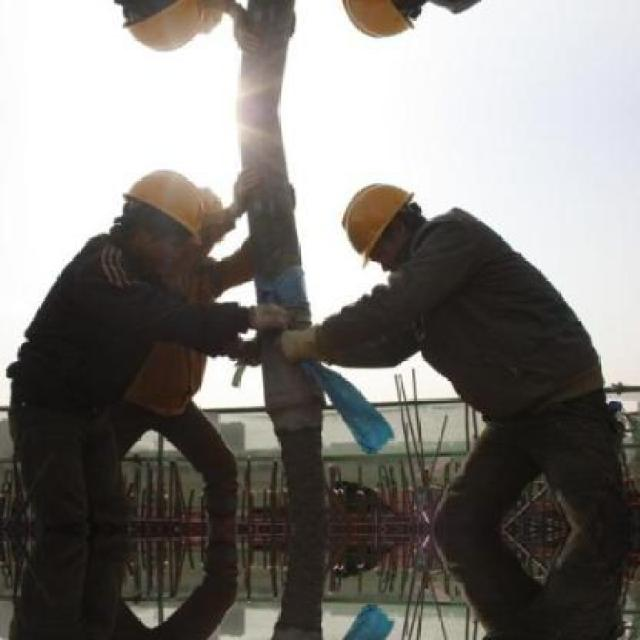helmet: (327, 167, 433, 273), (109, 159, 202, 263), (108, 0, 203, 62), (326, 0, 433, 52), (187, 181, 225, 256), (186, 0, 226, 38)
